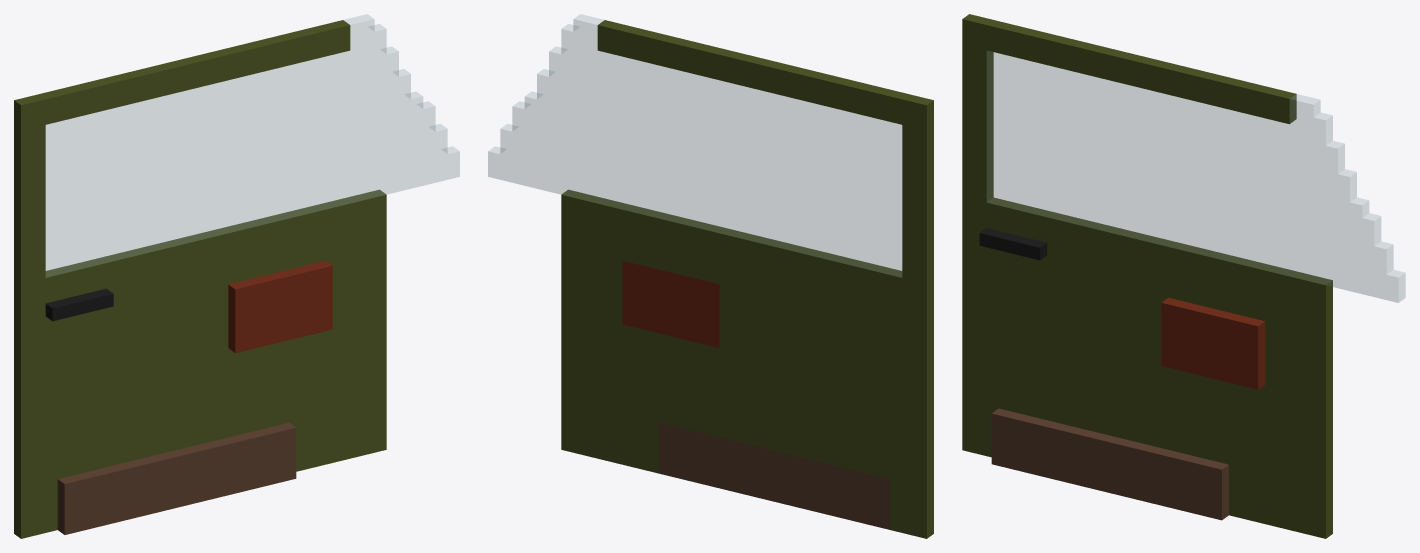
File: technical_door.glb
3 views of the same model, side by side, from view 1: azimuth 30°, elevation 25°; view 2: azimuth 150°, elevation 25°; view 3: azimuth 330°, elevation 25° (orthographic).
Parts seen in each view (by area): view 1: body:compound; view 2: body:compound; view 3: body:compound.
Boxes of the visible parts, x1=… form: body:compound: x1=14, y1=14, x2=459, y2=538; body:compound: x1=488, y1=14, x2=933, y2=538; body:compound: x1=962, y1=14, x2=1405, y2=538.
Bounding box in the file's own units: 1.12 × 1.06 × 0.0625.
